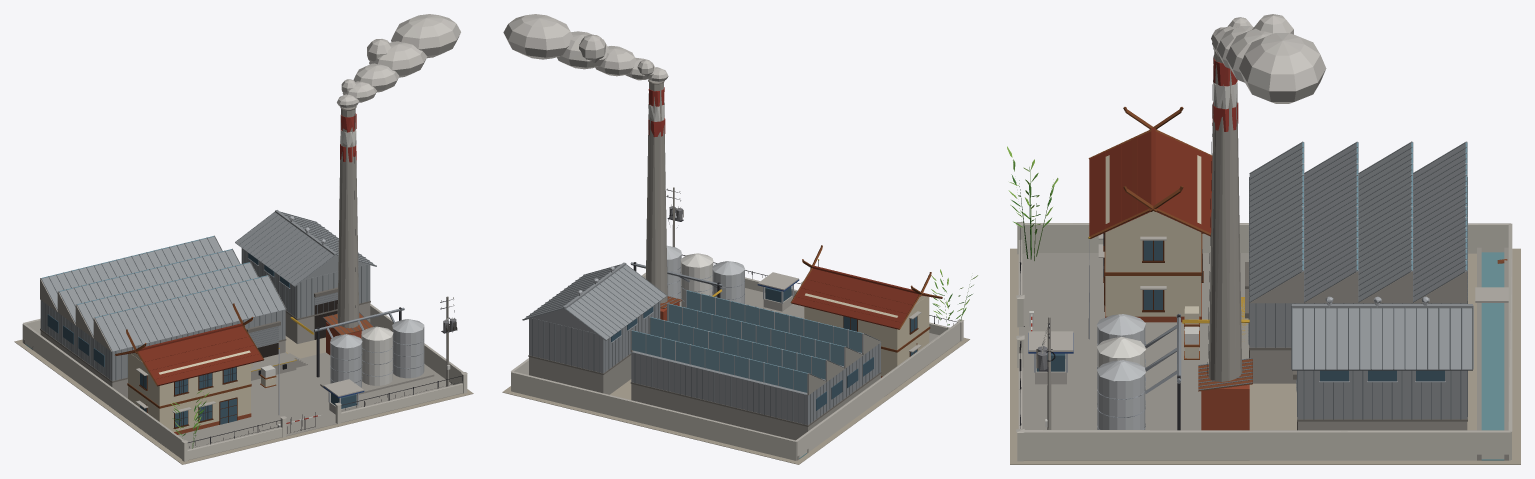
File: factory_4.glb
3 views of the same model, side by side, from view 1: azimuth 30°, elevation 25°; view 2: azimuth 150°, elevation 25°; view 3: azimuth 270°, elevation 25° (orthographic). The views are drawn at different scales.
Parts seen in each view (by area): view 1: body, windows; view 2: body, windows; view 3: body, windows.
Part boxes in pixels (x1=…): body: x1=14, y1=14, x2=473, y2=464; windows: x1=47, y1=253, x2=356, y2=427; body: x1=502, y1=14, x2=977, y2=464; windows: x1=611, y1=286, x2=917, y2=410; body: x1=1007, y1=14, x2=1520, y2=464; windows: x1=1036, y1=240, x2=1444, y2=430.
Size of the model in its own units: 40.68 by 31.53 by 32.09.
